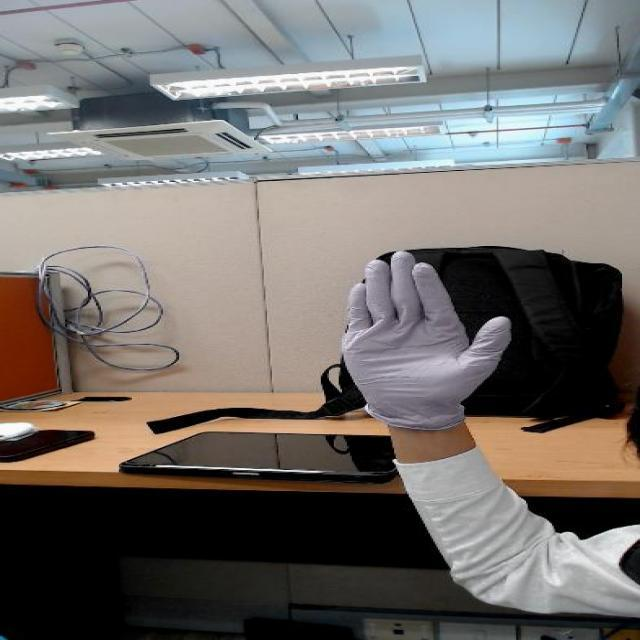with_gloves: (289, 238, 558, 411)
